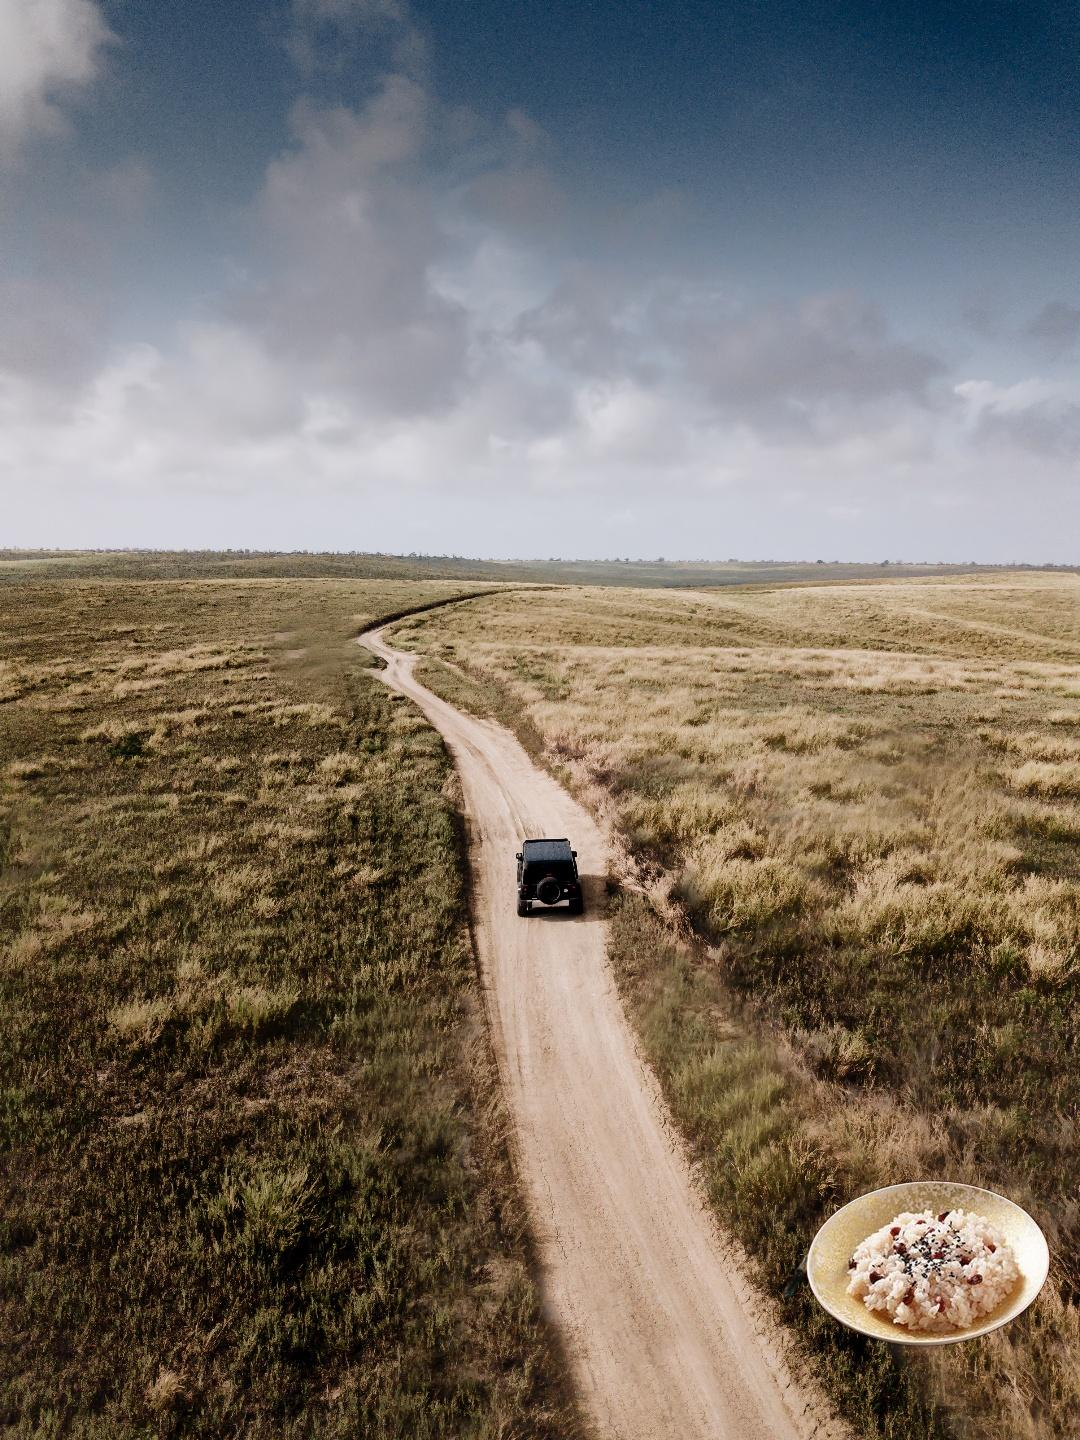biological: (783, 1068, 1052, 1348)
